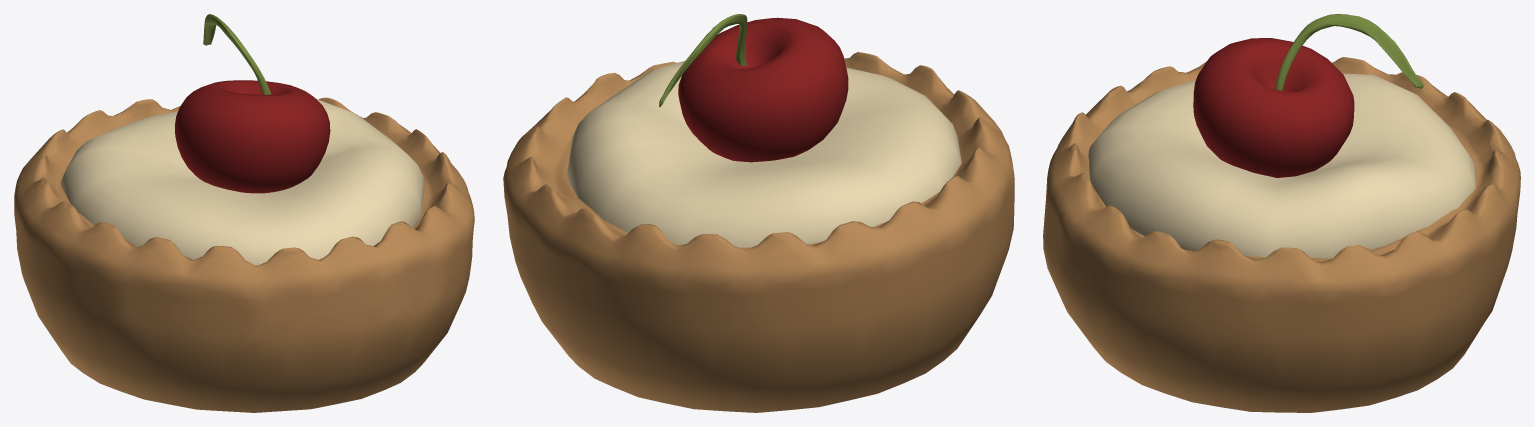
File: TEA_Time_Tartfbx.fbx
The picture shows the model from 3 angles, left to right: view 1: azimuth 30°, elevation 25°; view 2: azimuth 150°, elevation 25°; view 3: azimuth 270°, elevation 25°; orthographic projection. The views are drawn at different scales.
Parts seen in each view (by area): view 1: pCylinder2, pSphere1, pSphere2, pCylinder3; view 2: pCylinder2, pSphere1, pSphere2, pCylinder3; view 3: pCylinder2, pSphere1, pSphere2, pCylinder3.
Boxes of the visible parts, left/top/right/bottom form: pCylinder2: left=14, top=97, right=474, bottom=412; pSphere1: left=61, top=99, right=424, bottom=265; pSphere2: left=175, top=80, right=330, bottom=193; pCylinder3: left=203, top=14, right=271, bottom=94; pCylinder2: left=503, top=52, right=1014, bottom=412; pSphere1: left=567, top=60, right=961, bottom=247; pSphere2: left=678, top=17, right=848, bottom=162; pCylinder3: left=659, top=14, right=747, bottom=107; pCylinder2: left=1043, top=57, right=1520, bottom=412; pSphere1: left=1088, top=73, right=1475, bottom=258; pSphere2: left=1193, top=38, right=1354, bottom=177; pCylinder3: left=1274, top=14, right=1423, bottom=90.
Size of the model in its own units: 0.4117 by 0.3056 by 0.4062.
